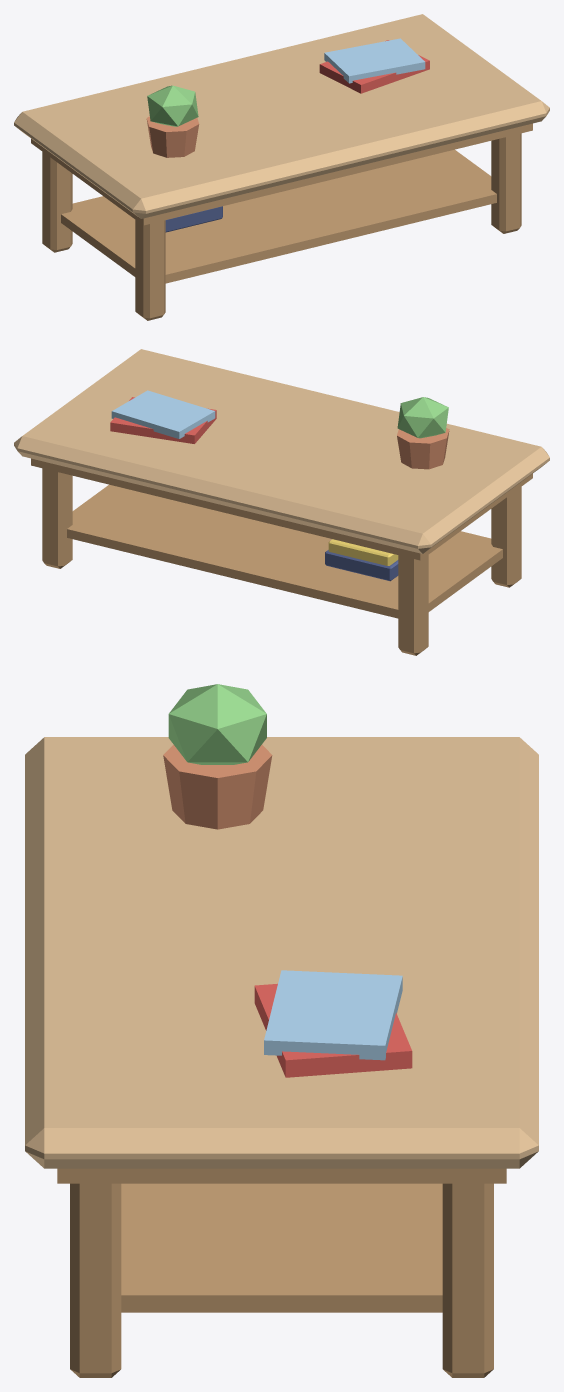
Rendered from prop_coffee_table_01.glb.
3 views of the same model, one above another, from view 1: azimuth 30°, elevation 25°; view 2: azimuth 150°, elevation 25°; view 3: azimuth 270°, elevation 25° (orthographic). The views are drawn at different scales.
Visible parts, largest first — view 1: prop_coffee_table_01_body; view 2: prop_coffee_table_01_body; view 3: prop_coffee_table_01_body.
Boxes of the visible parts, left/top/right/bottom form: prop_coffee_table_01_body: left=14, top=14, right=549, bottom=320; prop_coffee_table_01_body: left=14, top=349, right=549, bottom=655; prop_coffee_table_01_body: left=25, top=684, right=538, bottom=1377.
Size of the model in its own units: 1.5 by 0.672 by 0.8.
